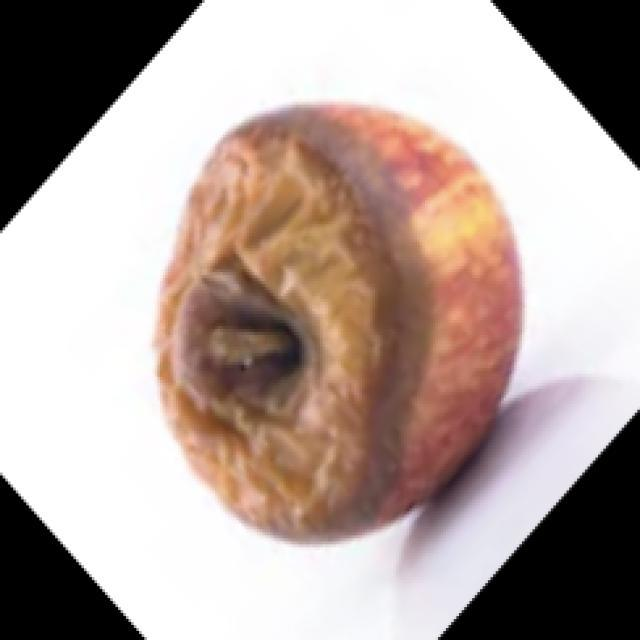Rotten: (168, 103, 502, 527)
